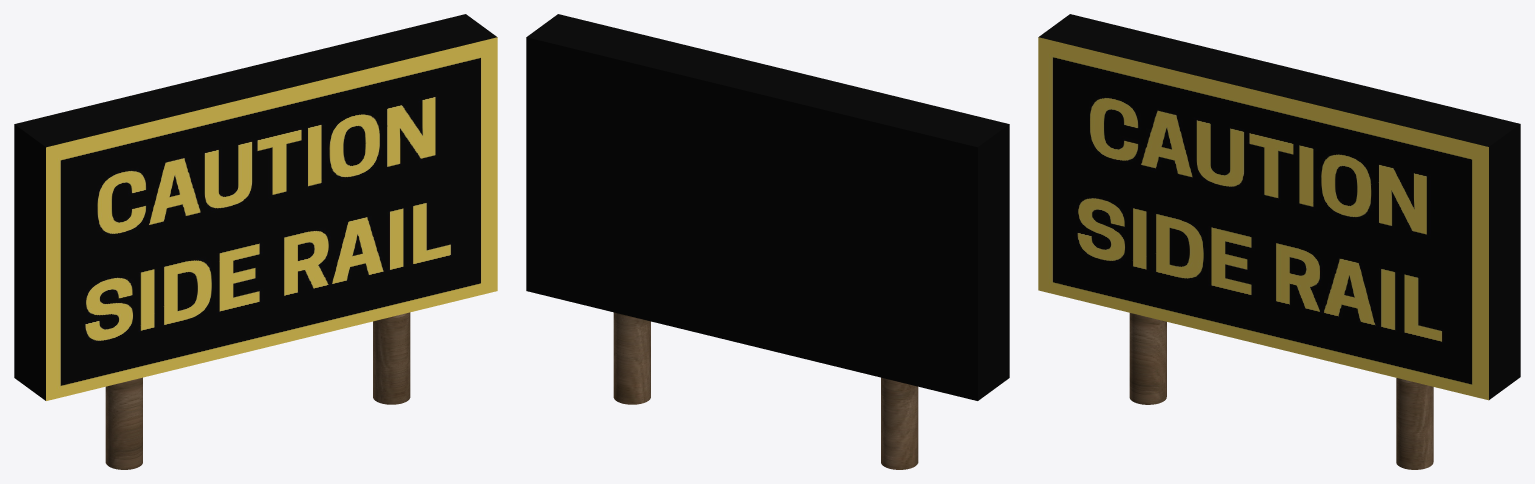
The model's file is caution_siderail.fbx.
The picture shows the model from 3 angles, left to right: view 1: azimuth 30°, elevation 25°; view 2: azimuth 150°, elevation 25°; view 3: azimuth 330°, elevation 25°; orthographic projection.
Parts seen in each view (by area): view 1: Cylinder.005; view 2: Cylinder.005; view 3: Cylinder.005.
Boxes of the visible parts, box(x1,y1,x2,y2) form: Cylinder.005: box(14, 14, 497, 469); Cylinder.005: box(526, 14, 1009, 469); Cylinder.005: box(1038, 14, 1520, 469).
Size of the model in its own units: 95.26 by 70.43 by 11.6.
